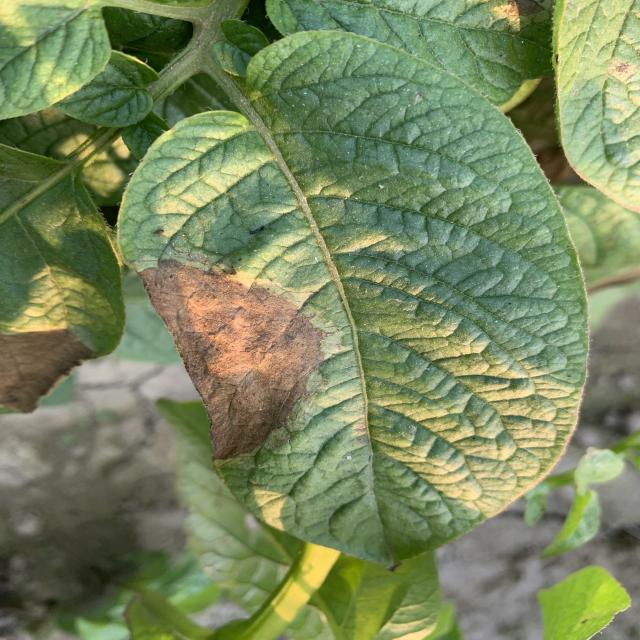lateblight: (140, 260, 325, 460)
